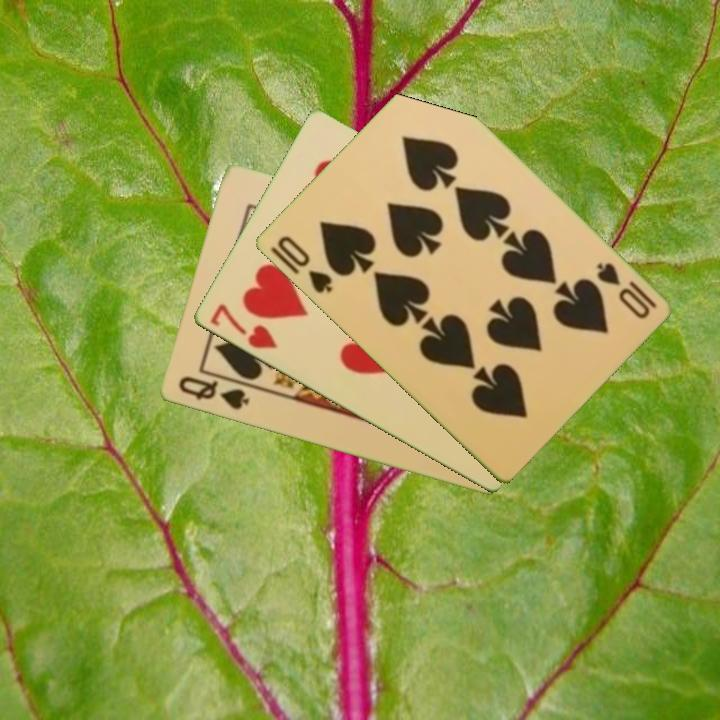10s: (592, 258, 660, 322), (273, 232, 335, 297)
7h: (206, 300, 281, 352)
Qs: (174, 373, 252, 413)
